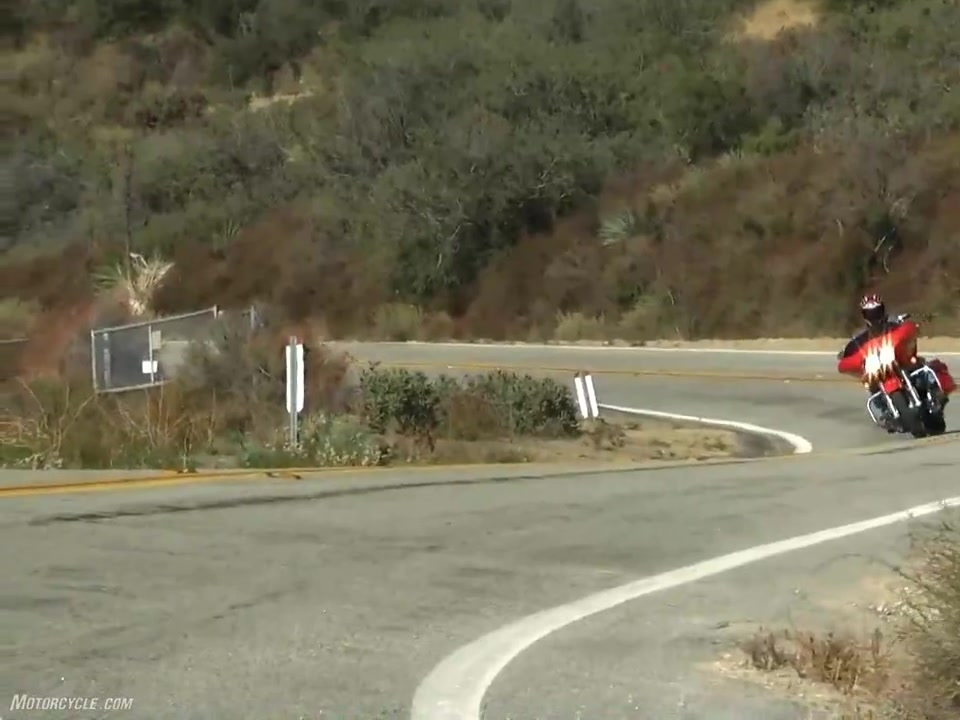motorbike: (837, 315, 959, 440)
